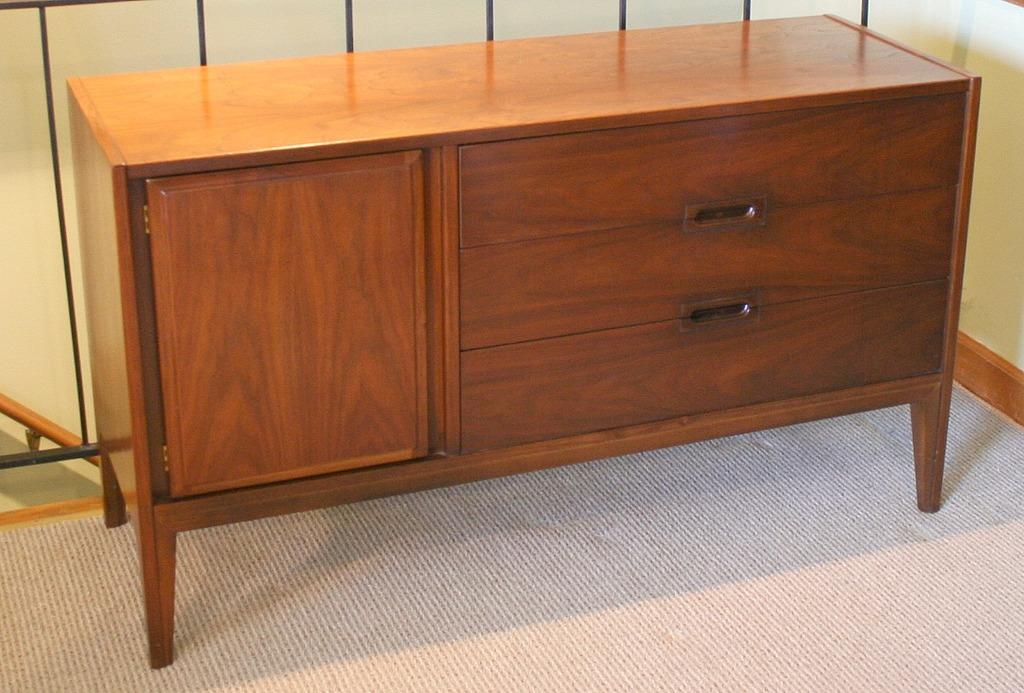cabinet_door: (142, 181, 428, 469), (470, 218, 948, 324), (463, 305, 951, 402), (460, 141, 952, 210)
handle: (684, 197, 770, 234), (686, 298, 770, 331)
